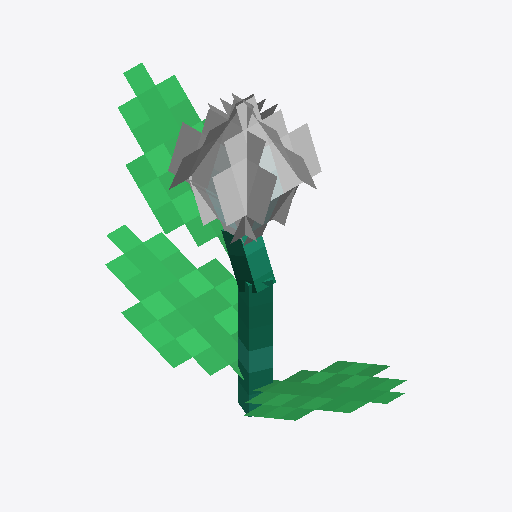
A Minecraft block model of 15 cuboids, rendered isometrically (azimuth 45°, elevation 35.3°) with the resource pack's own textures.
Visible parts, largest first — cube (×11).
Part boxes in pixels (x1,y1,x2,y2): cube (×11): (105,63,406,420).
Size of the model in its own units: 5 by 13.83 by 14.76.